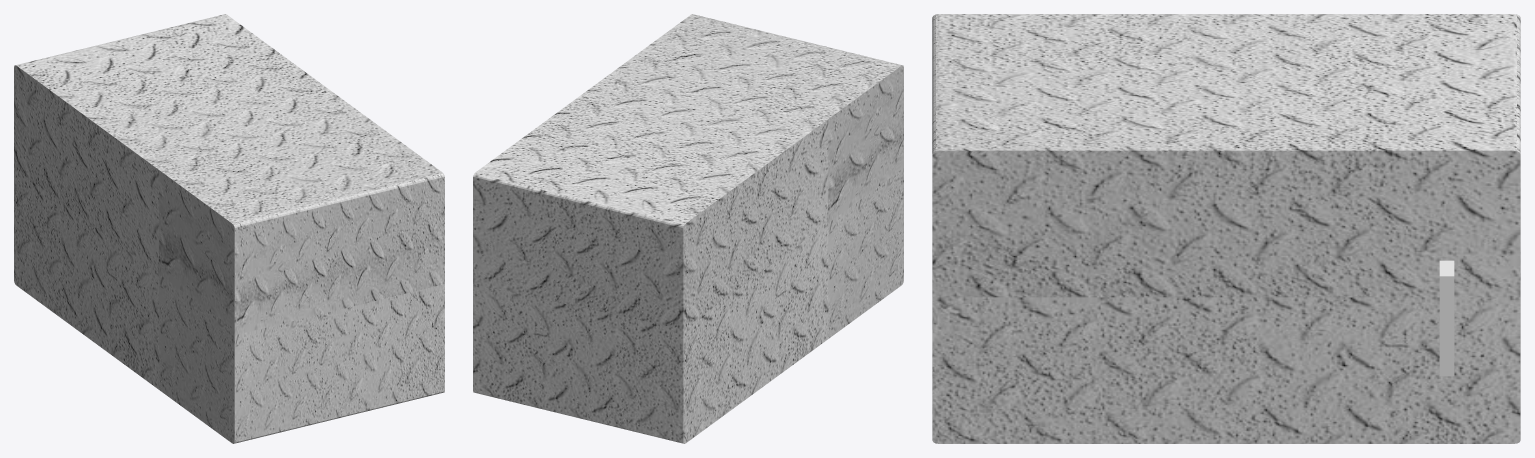
File: safe.glb
3 views of the same model, side by side, from view 1: azimuth 30°, elevation 25°; view 2: azimuth 150°, elevation 25°; view 3: azimuth 270°, elevation 25° (orthographic). The views are drawn at different scales.
Parts seen in each view (by area): view 1: Cube; view 2: Cube; view 3: Cube.
Boxes of the visible parts, <box> form: Cube: <box>14,14,444,443</box>; Cube: <box>473,14,903,443</box>; Cube: <box>932,14,1520,443</box>.
Bounding box in the file's own units: 2.45 × 2.2 × 4.
Materials: 2 (1 with a texture image).
